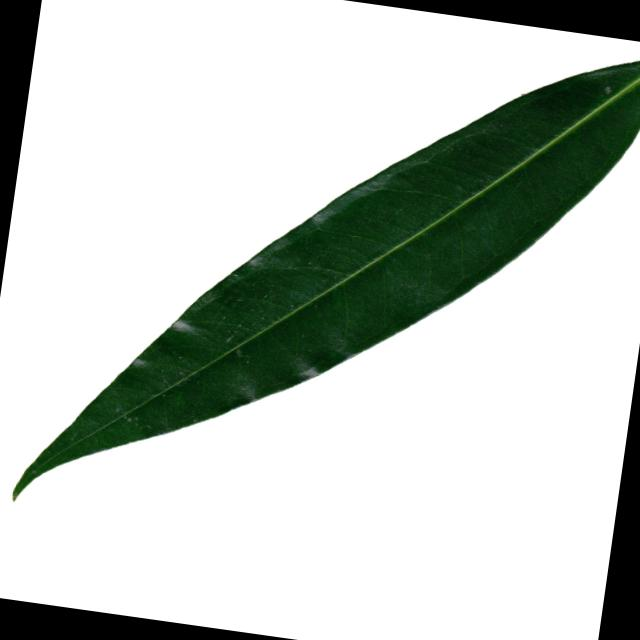Medicinal-Rose Apple: (12, 0, 640, 581)
